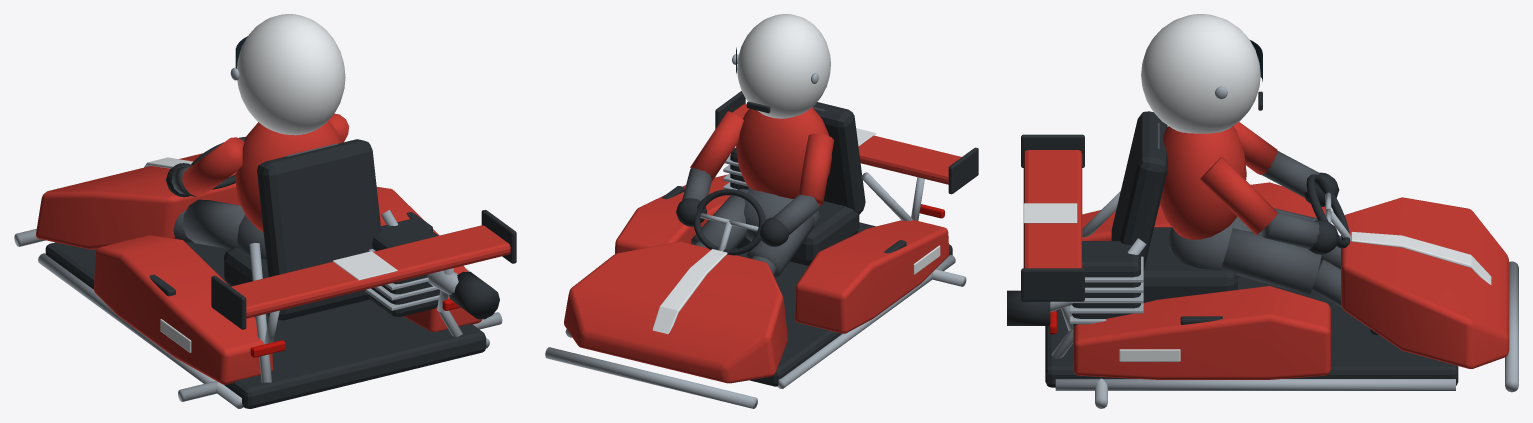
Rendered from pulse-kart-v2.glb.
The picture shows the model from 3 angles, left to right: view 1: azimuth 30°, elevation 25°; view 2: azimuth 150°, elevation 25°; view 3: azimuth 270°, elevation 25°; orthographic projection. The views are drawn at different scales.
Parts seen in each view (by area): view 1: CarbonFloor, AerodynamicNose, CentreStripe, FrameRail-1, RacerTorso, SeatedHip, UpperArm-1, RearReflector-1; view 2: AerodynamicNose, CarbonFloor, CentreStripe, FrameRail-1, RacerTorso, SeatedHip, UpperArm-1, UpperArm1, Forearm-1, Forearm1, Glove-1, Glove1; view 3: AerodynamicNose, CarbonFloor, CentreStripe, FrameRail-1, SeatedHip, RacerTorso, UpperArm1, Forearm1, Forearm-1, UpperArm-1, Glove1.
Boxes of the visible parts, x1=… form: CarbonFloor: x1=45, y1=136, x2=516, y2=408; AerodynamicNose: x1=36, y1=153, x2=510, y2=384; CentreStripe: x1=144, y1=14, x2=471, y2=352; FrameRail-1: x1=14, y1=67, x2=502, y2=408; RacerTorso: x1=235, y1=121, x2=341, y2=232; SeatedHip: x1=173, y1=143, x2=337, y2=259; UpperArm-1: x1=182, y1=137, x2=244, y2=196; RearReflector-1: x1=250, y1=299, x2=460, y2=357; AerodynamicNose: x1=564, y1=104, x2=961, y2=383; CarbonFloor: x1=662, y1=91, x2=978, y2=386; CentreStripe: x1=652, y1=14, x2=940, y2=333; FrameRail-1: x1=545, y1=54, x2=966, y2=408; RacerTorso: x1=736, y1=107, x2=831, y2=199; SeatedHip: x1=691, y1=107, x2=824, y2=278; UpperArm-1: x1=798, y1=133, x2=834, y2=205; UpperArm1: x1=690, y1=111, x2=743, y2=181; Forearm-1: x1=773, y1=194, x2=819, y2=234; Forearm1: x1=682, y1=167, x2=712, y2=200; Glove-1: x1=760, y1=217, x2=789, y2=246; Glove1: x1=676, y1=198, x2=707, y2=226; AerodynamicNose: x1=1023, y1=150, x2=1509, y2=379; CarbonFloor: x1=1007, y1=91, x2=1458, y2=387; CentreStripe: x1=1023, y1=14, x2=1491, y2=361; FrameRail-1: x1=1050, y1=86, x2=1518, y2=408; SeatedHip: x1=1157, y1=122, x2=1342, y2=307; RacerTorso: x1=1160, y1=126, x2=1246, y2=239; UpperArm1: x1=1200, y1=157, x2=1277, y2=234; Forearm1: x1=1260, y1=212, x2=1319, y2=249; Forearm-1: x1=1262, y1=151, x2=1319, y2=197; UpperArm-1: x1=1233, y1=122, x2=1277, y2=174; Glove1: x1=1307, y1=220, x2=1339, y2=254.
Bounding box in the file's own units: 1.46 × 1.36 × 2.01.
